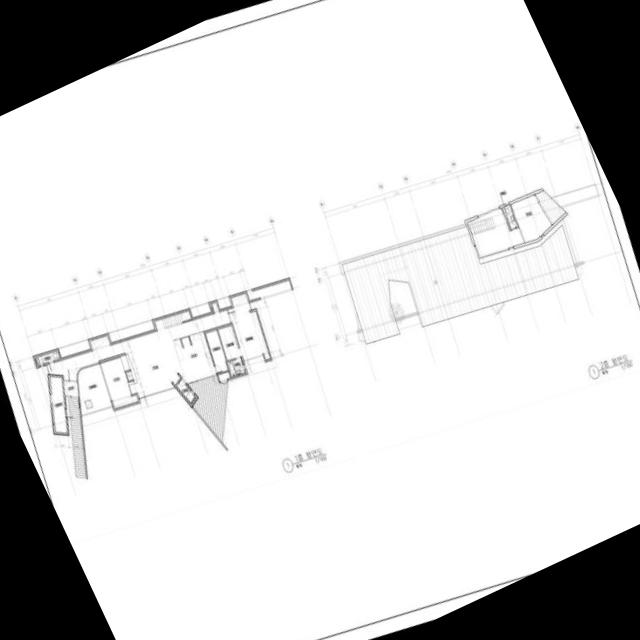background: (0, 0, 640, 640)
space_bedroom: (228, 294, 270, 360), (511, 195, 552, 243)
space_dressroom: (218, 325, 241, 360)
space_front: (64, 381, 79, 396)
space_kitchen: (173, 332, 216, 383)
space_living_room: (47, 303, 231, 398), (468, 208, 524, 257)
space_other: (101, 357, 139, 408), (50, 377, 67, 433), (206, 330, 228, 373), (177, 380, 196, 404), (219, 372, 230, 381), (211, 304, 214, 312)
space_staircase: (155, 311, 191, 331), (469, 218, 496, 235)
space_toilet: (227, 358, 246, 377), (503, 205, 517, 229), (42, 351, 60, 363), (35, 356, 43, 365)
